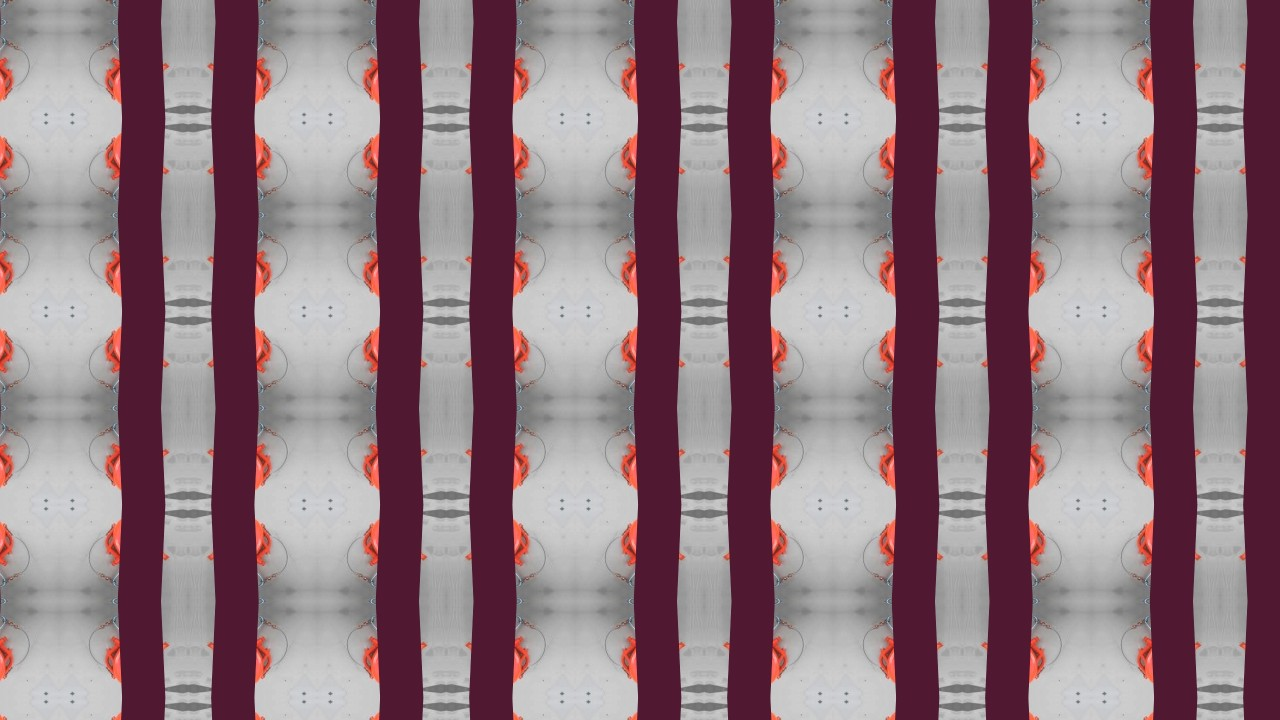chock: (101, 35, 170, 108), (203, 35, 272, 108), (360, 35, 429, 108), (462, 35, 531, 108), (619, 35, 688, 108), (721, 35, 790, 108), (878, 35, 947, 108), (980, 35, 1049, 108), (1137, 35, 1206, 108), (101, 127, 170, 200), (203, 127, 272, 200), (360, 127, 429, 200), (462, 127, 531, 200), (619, 127, 688, 200), (721, 127, 790, 200), (878, 127, 947, 200), (980, 127, 1049, 200), (1137, 127, 1206, 200), (101, 229, 170, 302), (203, 229, 272, 302), (360, 229, 429, 302), (462, 229, 531, 302), (619, 229, 688, 302), (721, 229, 790, 302), (878, 229, 947, 302), (980, 229, 1049, 302), (1137, 229, 1206, 302), (101, 321, 170, 394), (203, 321, 272, 394), (360, 321, 429, 394), (462, 321, 531, 394), (619, 321, 688, 394), (721, 321, 790, 394), (878, 321, 947, 394), (980, 321, 1049, 394), (1137, 321, 1206, 394), (101, 423, 170, 496), (203, 423, 272, 496), (360, 423, 429, 496), (462, 423, 531, 496), (619, 423, 688, 496), (721, 423, 790, 496), (878, 423, 947, 496), (980, 423, 1049, 496), (1137, 423, 1206, 496), (101, 515, 170, 588), (203, 515, 272, 588), (360, 515, 429, 588), (462, 515, 531, 588), (619, 515, 688, 588), (721, 515, 790, 588), (878, 515, 947, 588), (980, 515, 1049, 588), (1137, 515, 1206, 588), (101, 617, 170, 690), (203, 617, 272, 690), (360, 617, 429, 690), (462, 617, 531, 690), (619, 617, 688, 690), (721, 617, 790, 690), (878, 617, 947, 690), (980, 617, 1049, 690), (1137, 617, 1206, 690), (1239, 35, 1280, 108), (1239, 127, 1280, 200), (1239, 229, 1280, 302), (1239, 321, 1280, 394), (1239, 423, 1280, 496), (1239, 515, 1280, 588), (1239, 617, 1280, 690), (0, 35, 13, 108), (0, 127, 13, 200), (0, 229, 13, 302), (0, 321, 13, 394), (0, 423, 13, 496), (0, 515, 13, 588), (0, 617, 13, 690), (101, 709, 170, 720), (203, 709, 272, 720), (360, 709, 429, 720), (462, 709, 531, 720), (619, 709, 688, 720), (721, 709, 790, 720), (878, 709, 947, 720), (980, 709, 1049, 720), (1137, 709, 1206, 720)
